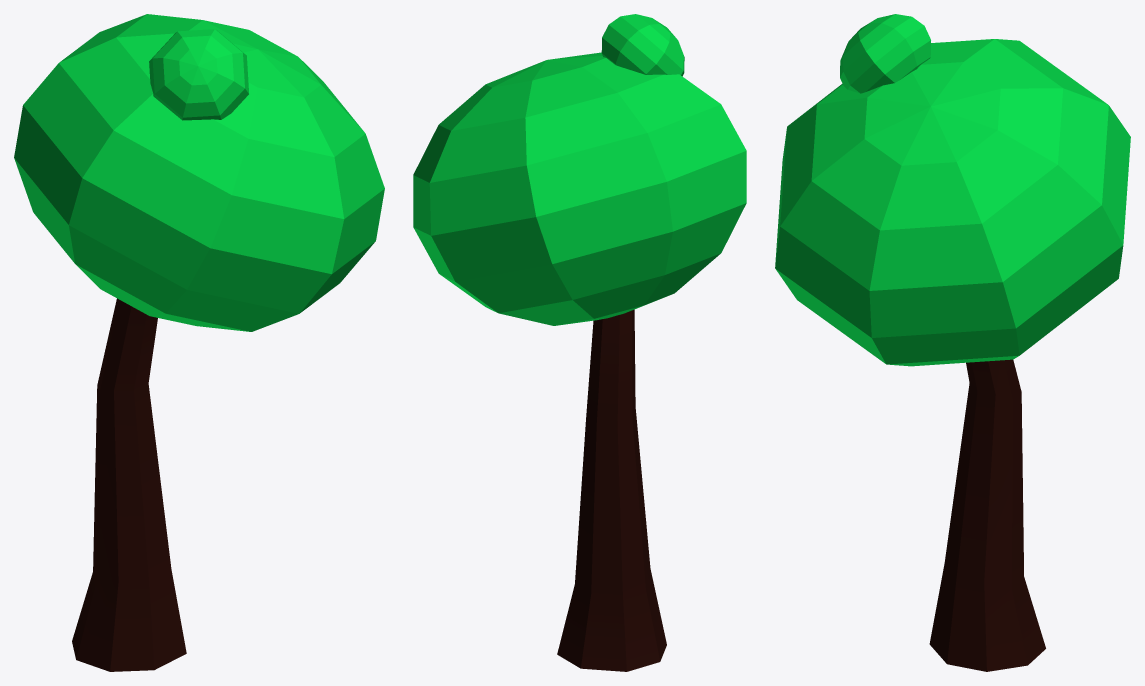
Rendered from tree_02.fbx.
The picture shows the model from 3 angles, left to right: view 1: azimuth 30°, elevation 25°; view 2: azimuth 150°, elevation 25°; view 3: azimuth 270°, elevation 25°; orthographic projection. The views are drawn at different scales.
Parts seen in each view (by area): view 1: tree_02; view 2: tree_02; view 3: tree_02.
Boxes of the visible parts, box(x1,y1,x2,y2) form: tree_02: box(14, 14, 384, 671); tree_02: box(413, 14, 746, 671); tree_02: box(775, 14, 1130, 671).
Bounding box in the file's own units: 966 × 1907 × 966.
